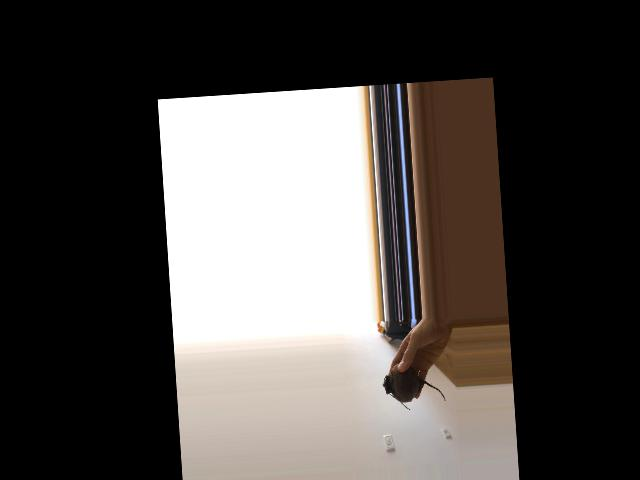beet: (381, 360, 446, 412)
